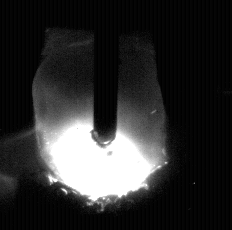arame: (94, 0, 119, 147)
poca: (35, 0, 166, 230)
